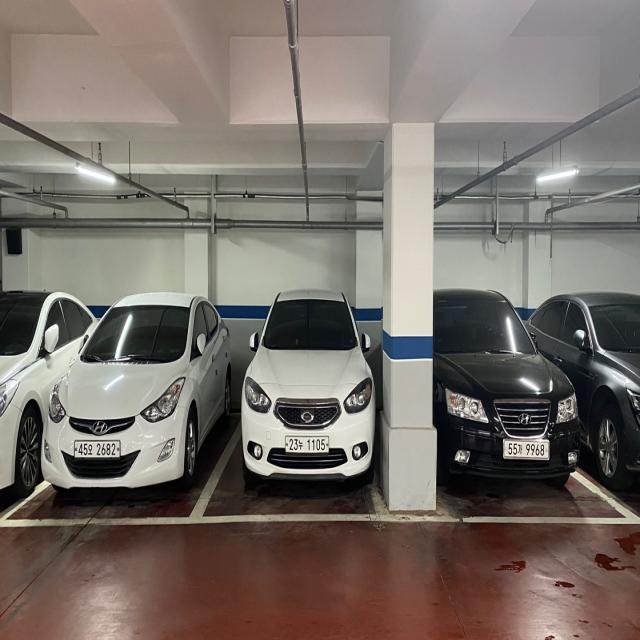occupied: (46, 292, 202, 493), (438, 289, 578, 482), (240, 292, 375, 486)
